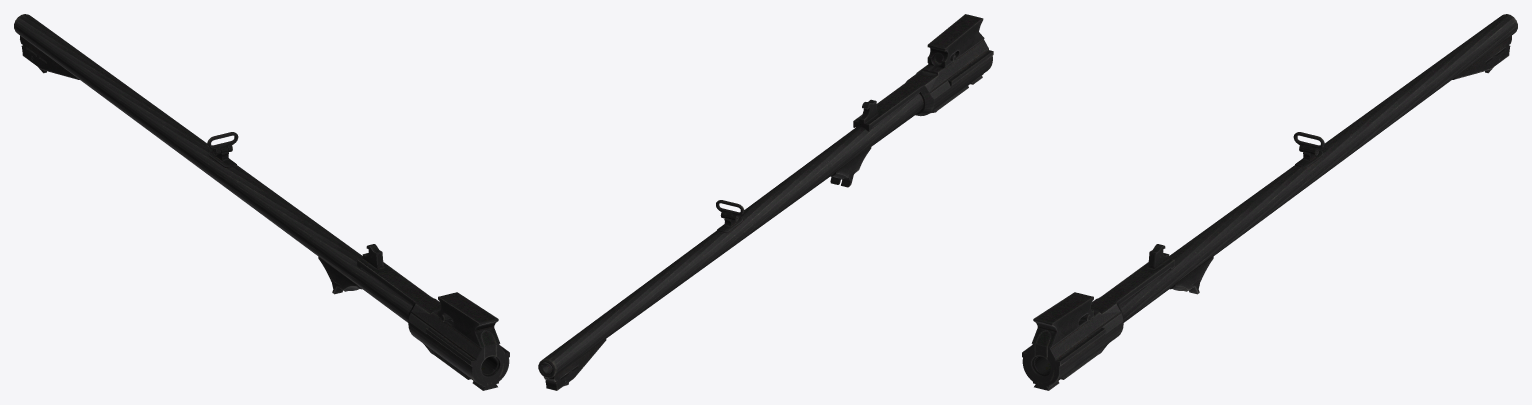
3 renders of one model, left to right at view 1: azimuth 30°, elevation 25°; view 2: azimuth 150°, elevation 25°; view 3: azimuth 330°, elevation 25°, orthographic. The views are drawn at different scales.
Visible parts, largest first — view 1: TW_61f4012adfc9f01a816adda1_PZ_Import; view 2: TW_61f4012adfc9f01a816adda1_PZ_Import; view 3: TW_61f4012adfc9f01a816adda1_PZ_Import.
Part boxes in pixels (x1,y1,x2,y2): TW_61f4012adfc9f01a816adda1_PZ_Import: [14, 14, 509, 390]; TW_61f4012adfc9f01a816adda1_PZ_Import: [538, 14, 993, 390]; TW_61f4012adfc9f01a816adda1_PZ_Import: [1022, 14, 1517, 390].
Bounding box in the file's own units: 0.0167 × 0.3512 × 0.0319.
1 material, 1 textured.
